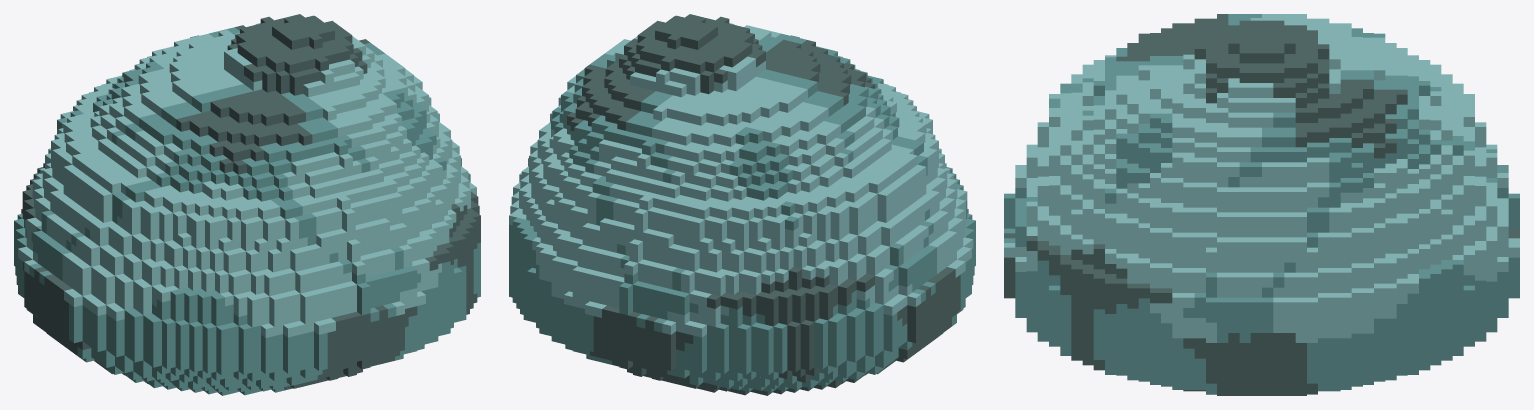
Rendered from Rock2.glb.
3 views of the same model, side by side, from view 1: azimuth 30°, elevation 25°; view 2: azimuth 150°, elevation 25°; view 3: azimuth 270°, elevation 25° (orthographic). The views are drawn at different scales.
Visible parts, largest first — view 1: q0; view 2: q0; view 3: q0.
Boxes of the visible parts, <box> form: q0: <box>14,14,480,395</box>; q0: <box>509,14,975,395</box>; q0: <box>1004,14,1519,395</box>.
Bounding box in the file's own units: 46 × 33 × 46.
1 material, 1 textured.
